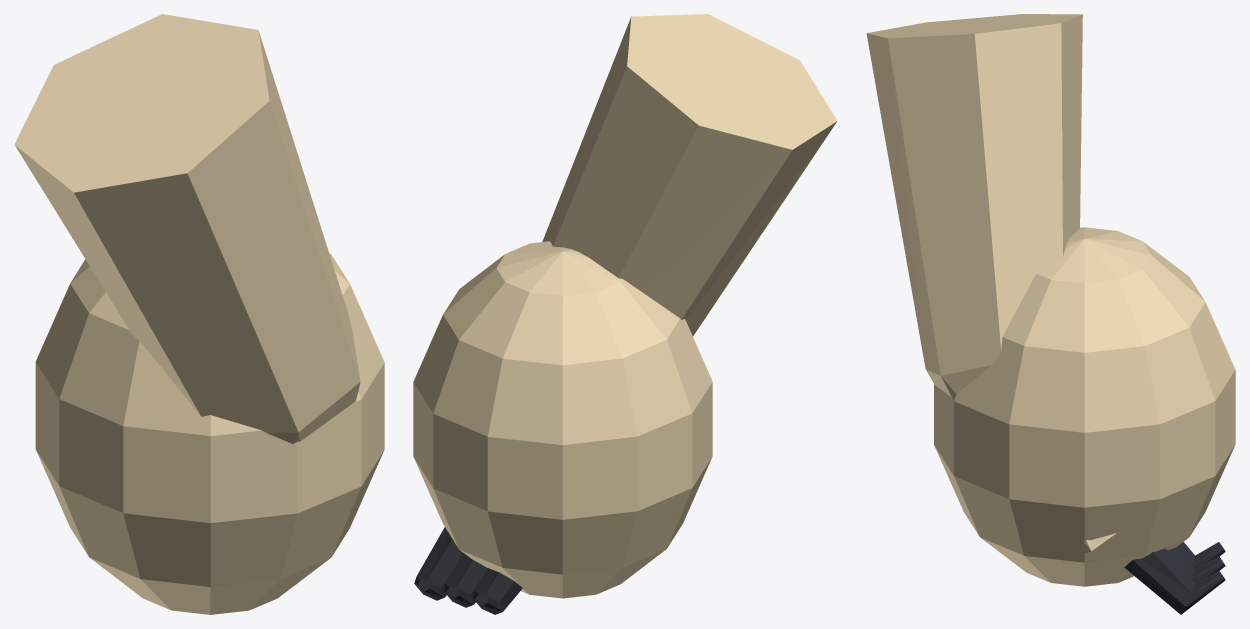
Rendered from gorehulk_f_arm_1.obj.
The picture shows the model from 3 angles, left to right: view 1: azimuth 30°, elevation 25°; view 2: azimuth 150°, elevation 25°; view 3: azimuth 270°, elevation 25°; orthographic projection. The views are drawn at different scales.
Visible parts, largest first — view 1: gorehulk_f_arm_1; view 2: gorehulk_f_arm_1; view 3: gorehulk_f_arm_1.
Boxes of the visible parts, left/top/right/bottom form: gorehulk_f_arm_1: left=14, top=14, right=384, bottom=614; gorehulk_f_arm_1: left=413, top=14, right=837, bottom=614; gorehulk_f_arm_1: left=866, top=14, right=1235, bottom=614.
Size of the model in its own units: 0.5524 by 0.8583 by 0.5367.
